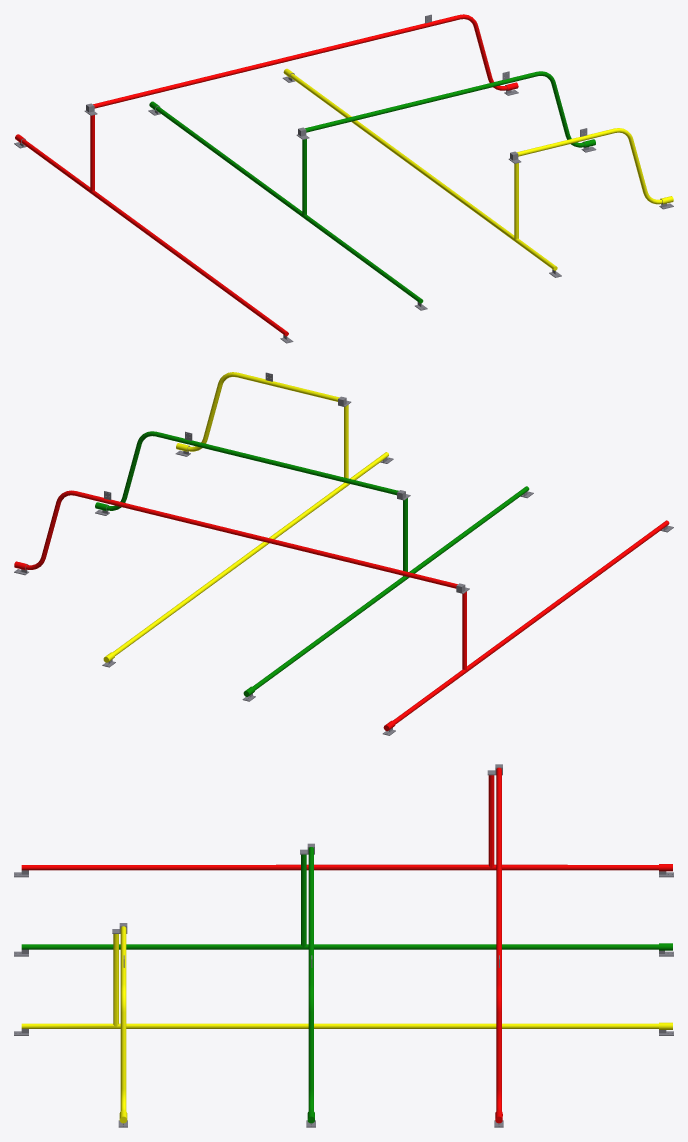
File: Ошиновка первая очередь РН-СЭЩ.fbx
The picture shows the model from 3 angles, top to bottom: view 1: azimuth 30°, elevation 25°; view 2: azimuth 150°, elevation 25°; view 3: azimuth 270°, elevation 25°; orthographic projection. The views are drawn at different scales.
Parts seen in each view (by area): view 1: Ошиновка РН-СЭЩ (Первая очередь); view 2: Ошиновка РН-СЭЩ (Первая очередь); view 3: Ошиновка РН-СЭЩ (Первая очередь).
Part boxes in pixels (box(x1,y1,x2,y2)): Ошиновка РН-СЭЩ (Первая очередь): box(14, 14, 673, 343); Ошиновка РН-СЭЩ (Первая очередь): box(14, 372, 673, 735); Ошиновка РН-СЭЩ (Первая очередь): box(14, 764, 673, 1127).
Bounding box in the file's own units: 6412 × 1390 × 7030.
